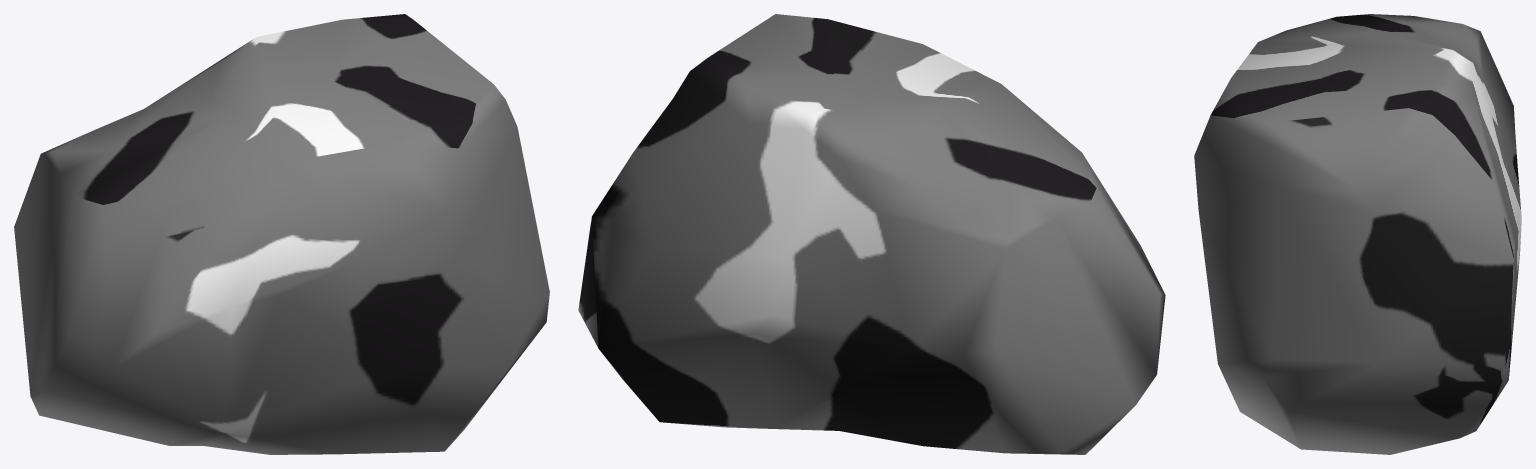
Rendered from SM_Env_LargeRock_04.obj.
3 renders of one model, left to right at view 1: azimuth 30°, elevation 25°; view 2: azimuth 150°, elevation 25°; view 3: azimuth 270°, elevation 25°, orthographic. The views are drawn at different scales.
Parts seen in each view (by area): view 1: SM_Env_LargeRock_04_Mat_LargeRocks; view 2: SM_Env_LargeRock_04_Mat_LargeRocks; view 3: SM_Env_LargeRock_04_Mat_LargeRocks.
Boxes of the visible parts, x1,y1,x2,y2 form: SM_Env_LargeRock_04_Mat_LargeRocks: [14, 14, 549, 454]; SM_Env_LargeRock_04_Mat_LargeRocks: [578, 14, 1165, 454]; SM_Env_LargeRock_04_Mat_LargeRocks: [1194, 14, 1521, 454].
Bounding box in the file's own units: 20.14 × 14.8 × 12.54.
Materials: 1 (1 with a texture image).
